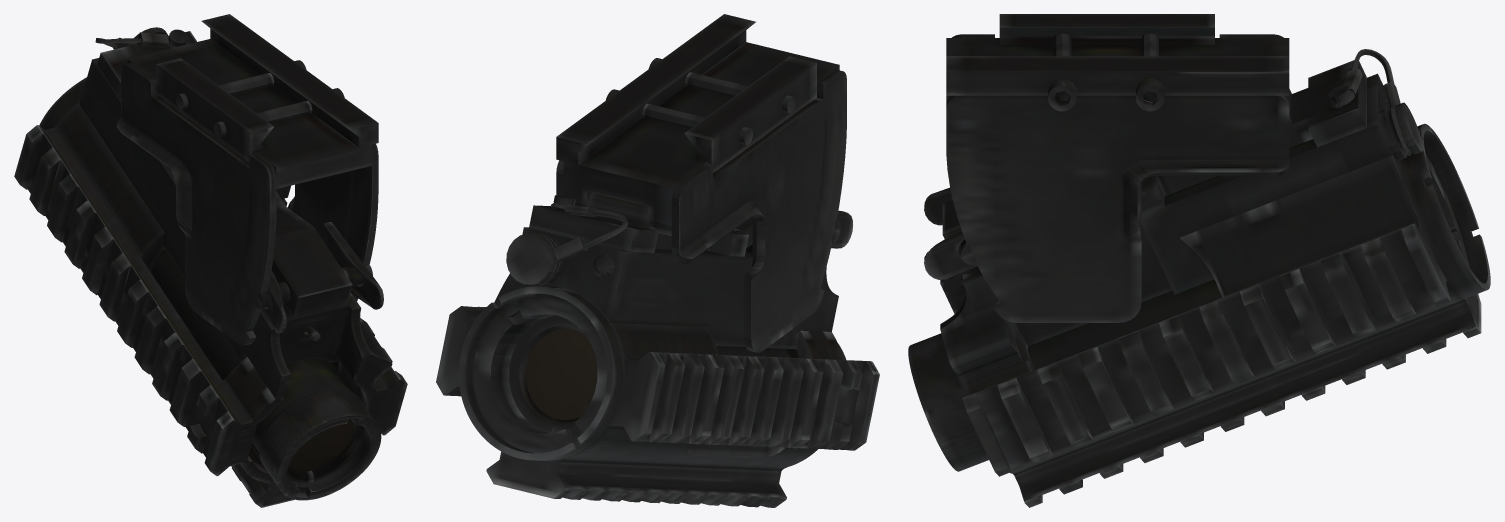
The picture shows the model from 3 angles, left to right: view 1: azimuth 30°, elevation 25°; view 2: azimuth 150°, elevation 25°; view 3: azimuth 270°, elevation 25°; orthographic projection. The views are drawn at different scales.
Parts seen in each view (by area): view 1: TW_6284bd5f95250a29bc628a30_range350_PZ_Import; view 2: TW_6284bd5f95250a29bc628a30_range350_PZ_Import; view 3: TW_6284bd5f95250a29bc628a30_range350_PZ_Import.
Boxes of the visible parts, x1,y1,x2,y2 form: TW_6284bd5f95250a29bc628a30_range350_PZ_Import: (14,14,407,507); TW_6284bd5f95250a29bc628a30_range350_PZ_Import: (436,14,879,507); TW_6284bd5f95250a29bc628a30_range350_PZ_Import: (908,14,1490,507).
Bounding box in the file's own units: 0.0322 × 0.0761 × 0.0651.
1 material, 1 textured.
